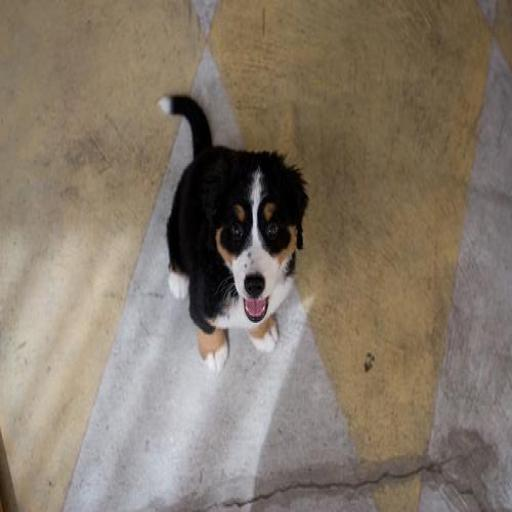dog_face: (193, 158, 304, 318)
